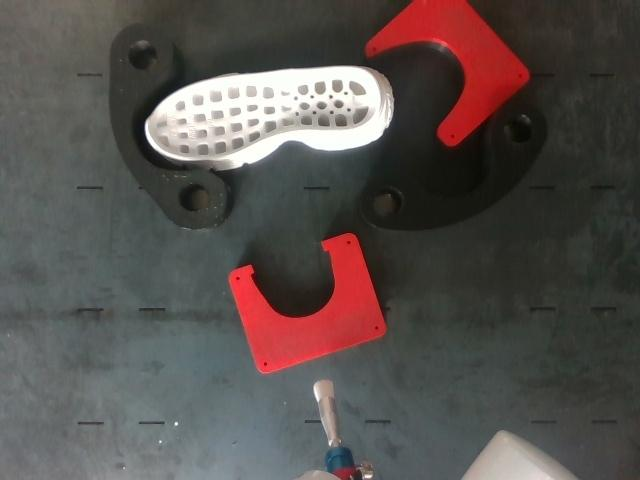shoes: (148, 67, 382, 159)
